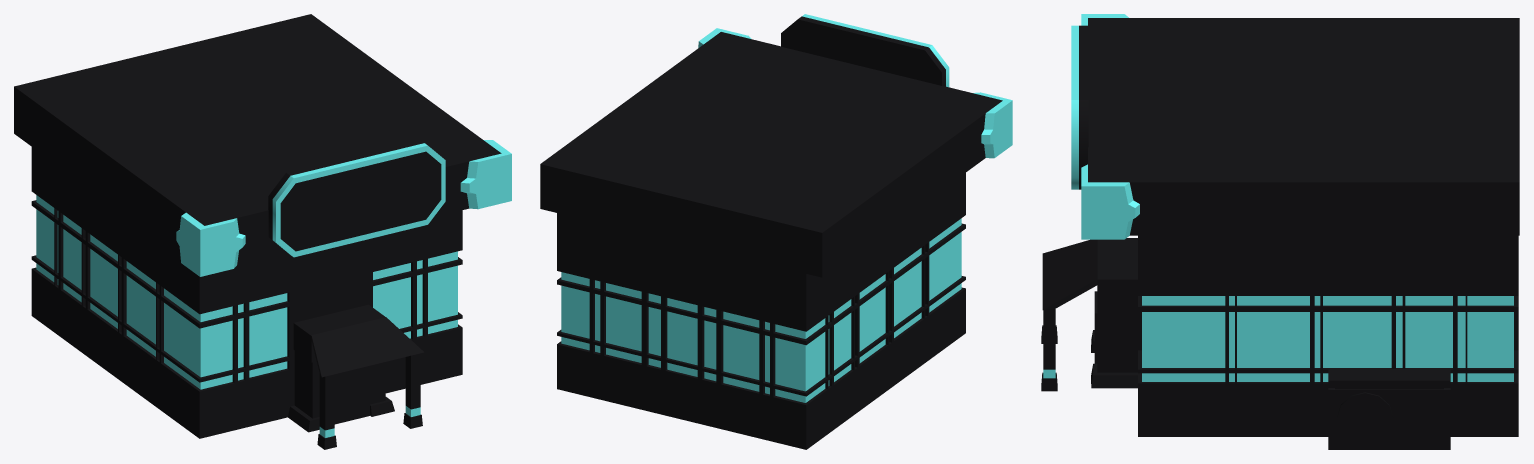
The picture shows the model from 3 angles, left to right: view 1: azimuth 30°, elevation 25°; view 2: azimuth 150°, elevation 25°; view 3: azimuth 270°, elevation 25°; orthographic projection. The views are drawn at different scales.
Visible parts, largest first — view 1: Box023; view 2: Box023; view 3: Box023.
Part boxes in pixels (left/top/right/bottom): Box023: left=14, top=14, right=511, bottom=449; Box023: left=540, top=14, right=1012, bottom=449; Box023: left=1041, top=14, right=1519, bottom=449.
Size of the model in its own units: 69.32 by 56.44 by 81.12.
